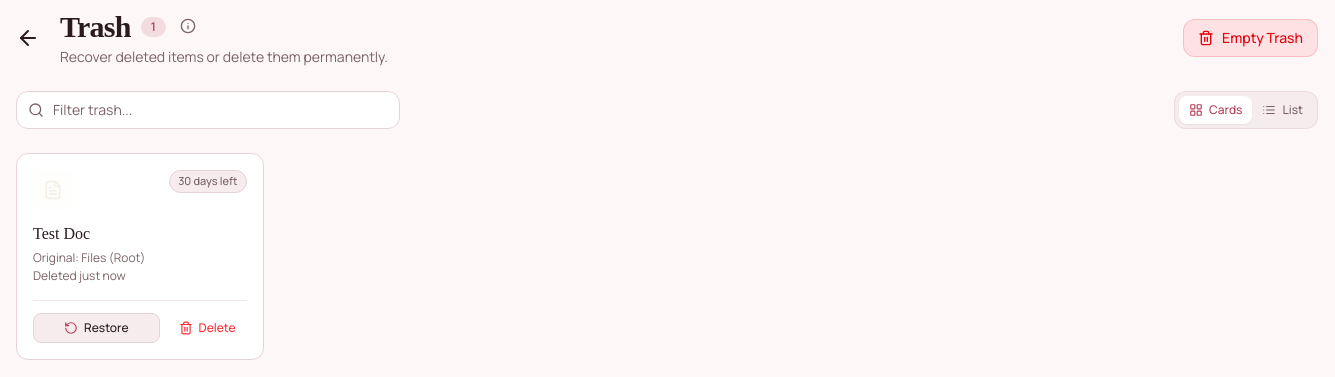
Test: TrashView.vue › toggles viewMode between cards and list view
The width and height of the screenshot is (1335, 377).
Expected: the button with aria-label "Cards view" is shown, x1=1179 y1=96 x2=1252 y2=124
Click the button with aria-label "List view" at (1283, 110), box x1=1252 y1=96 x2=1313 y2=124
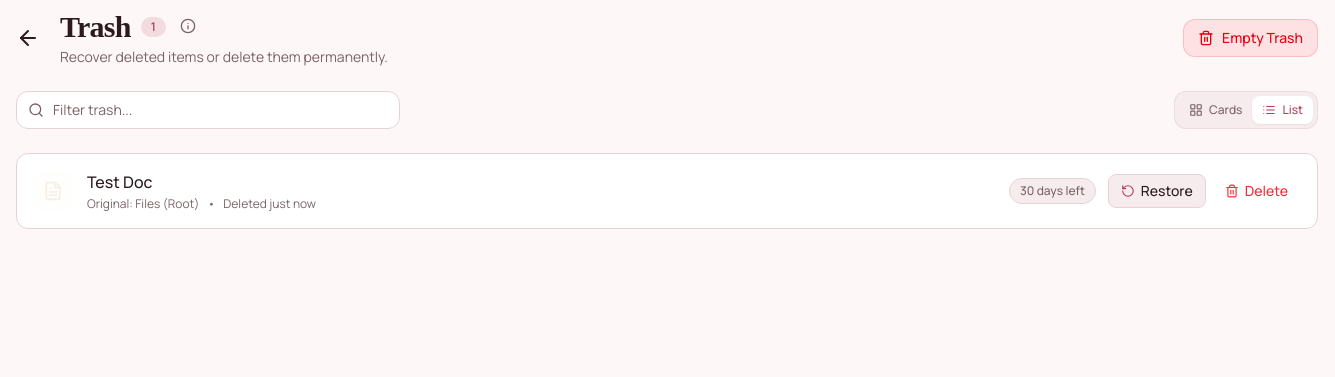
Click the button with aria-label "Cards view" at (1216, 110), box x1=1179 y1=96 x2=1252 y2=124
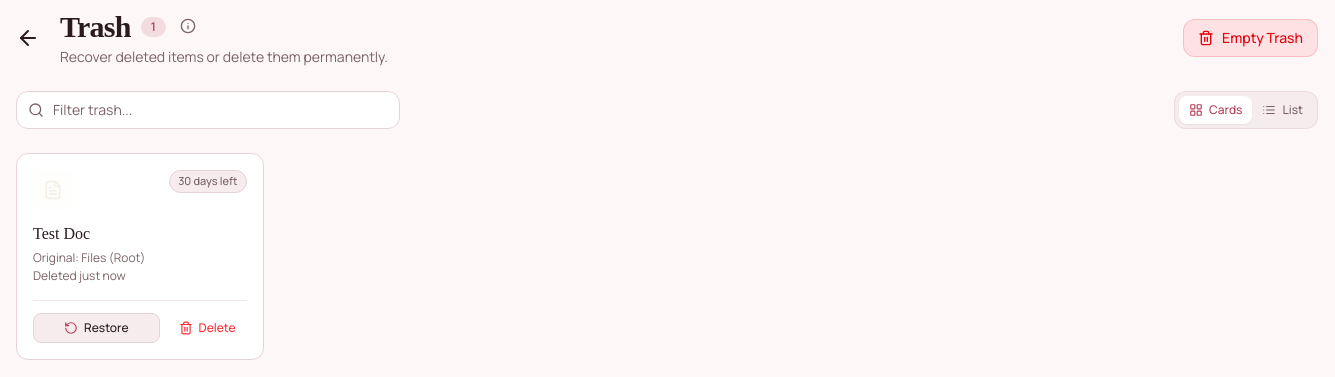
Expected: the element that starts with "30 days left" is shown, x1=16 y1=153 x2=264 y2=360
